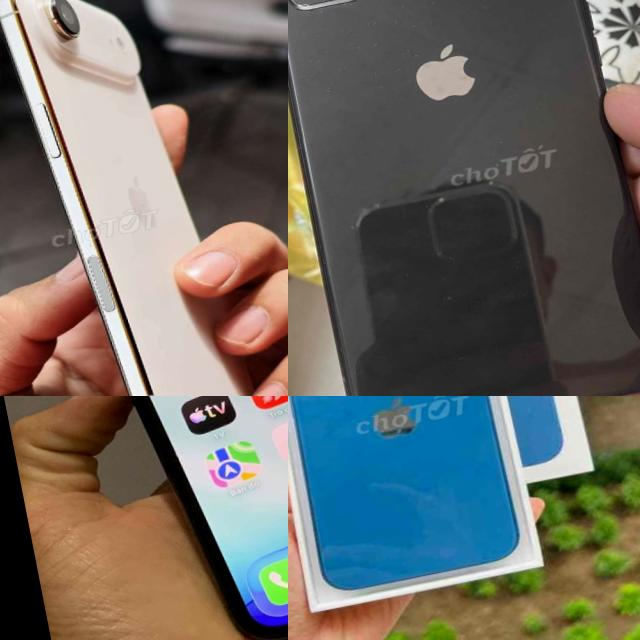scratch: (288, 29, 439, 104), (288, 0, 386, 56), (382, 0, 560, 29)
